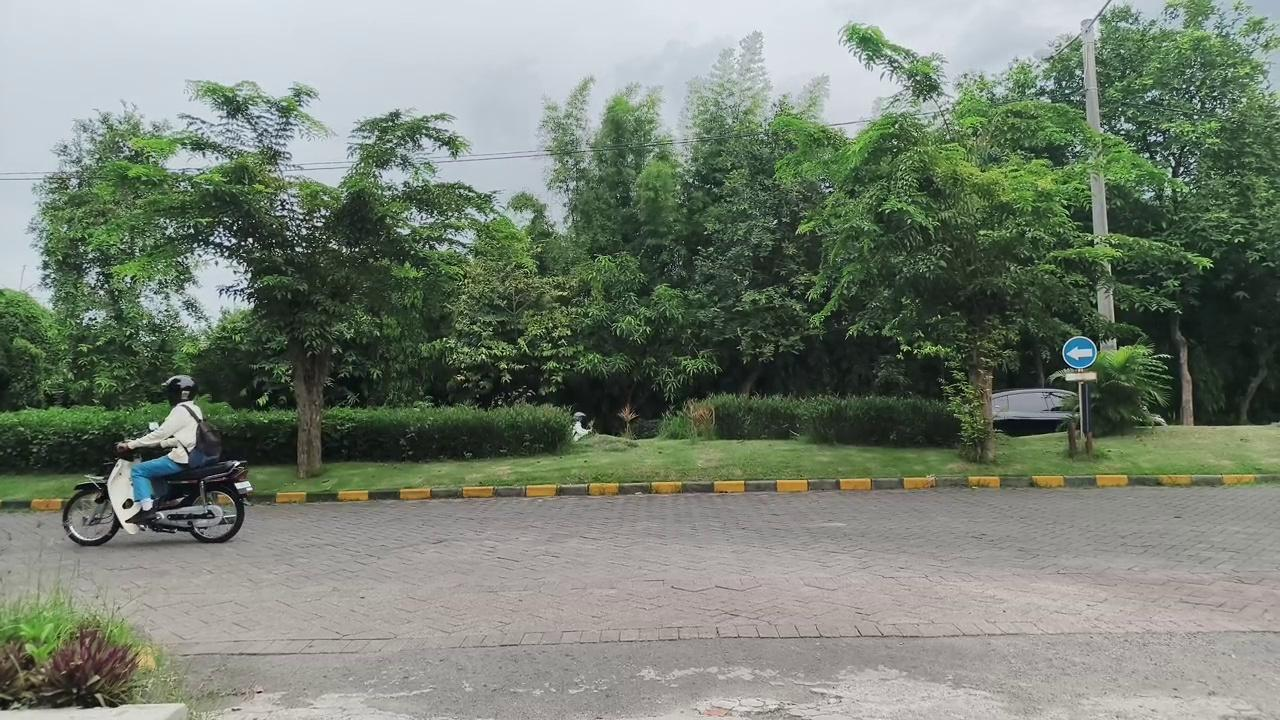Helmet: (117, 375, 205, 523)
Motor: (63, 451, 252, 545)
